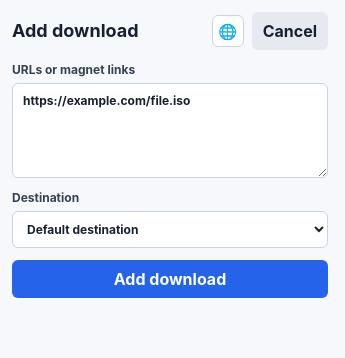
Scenario: App › shows browser link creation success briefly before closing the popup
The image size is (345, 358).
Click the button "Add download".
click(170, 279)  # box x1=12 y1=260 x2=328 y2=298
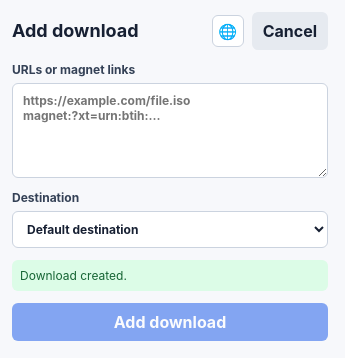
Now the text "Download created." is shown, box x1=12 y1=260 x2=328 y2=291
